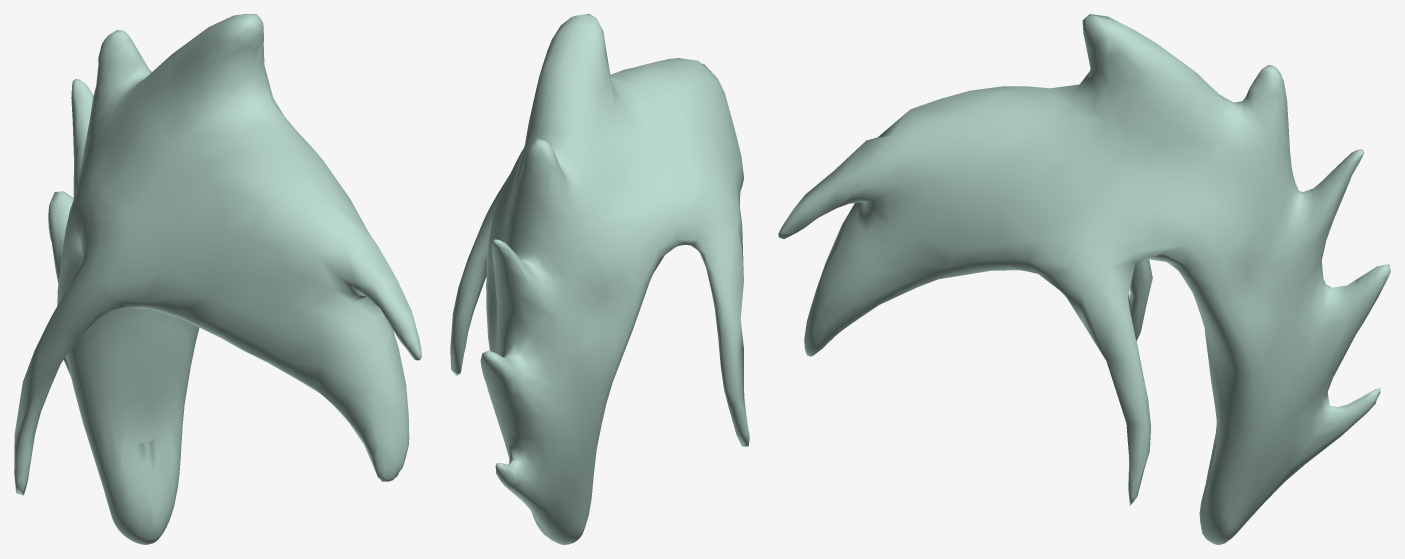
File: Mane_20.fbx
3 views of the same model, side by side, from view 1: azimuth 30°, elevation 25°; view 2: azimuth 150°, elevation 25°; view 3: azimuth 270°, elevation 25° (orthographic). The views are drawn at different scales.
Visible parts, largest first — view 1: Mane_20; view 2: Mane_20; view 3: Mane_20.
Part boxes in pixels (box(x1,y1,x2,y2)): Mane_20: box(14, 14, 421, 544); Mane_20: box(450, 14, 749, 544); Mane_20: box(778, 14, 1390, 544).
Size of the model in its own units: 1.49 by 2.32 by 2.35.
